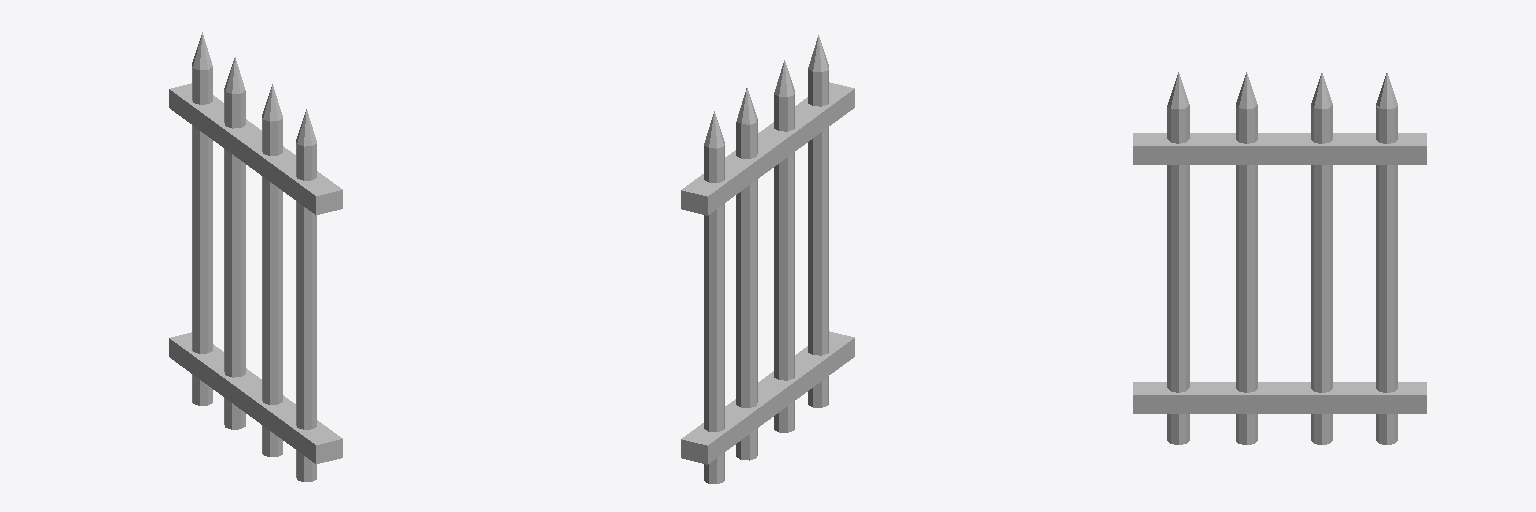
Rendered from JailDoor.obj.
3 views of the same model, side by side, from view 1: azimuth 30°, elevation 25°; view 2: azimuth 150°, elevation 25°; view 3: azimuth 270°, elevation 25° (orthographic).
Parts seen in each view (by area): view 1: Cone.003_Cone.007; view 2: Cone.003_Cone.007; view 3: Cone.003_Cone.007.
Part boxes in pixels (x1,y1,x2,y2): Cone.003_Cone.007: (169,32,342,481); Cone.003_Cone.007: (681,35,854,483); Cone.003_Cone.007: (1133,72,1426,444).
Size of the model in its own units: 0.4178 by 5.5 by 3.98.